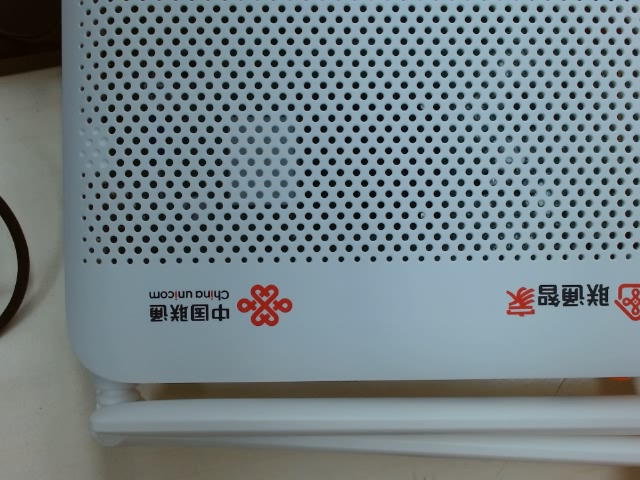ChinaUnicom2: (135, 280, 302, 334)
